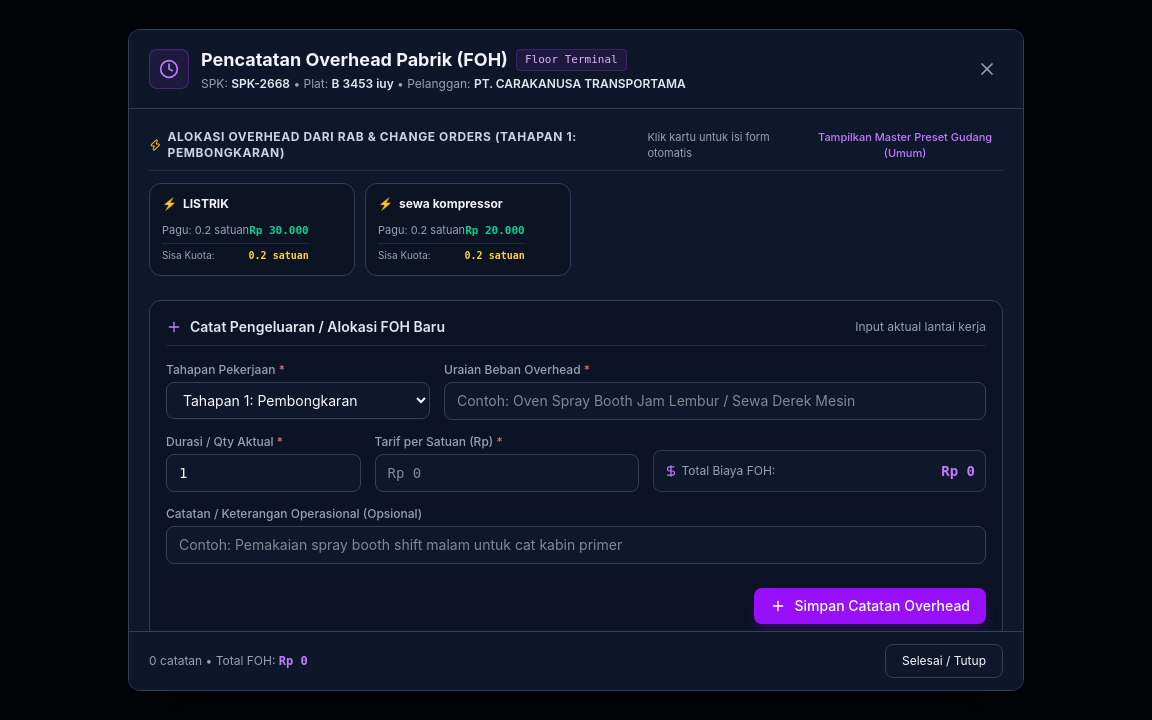
Test: Component: SpkOverheadModal (Mandor Floor Terminal Overhead Logging) › applies dynamic RAB preset when clicked and auto-fills form inputs and binds rab_item_id
The image size is (1152, 720).
# Click LISTRIK preset
Click the text "LISTRIK": [206, 204] box [183,196,229,212]
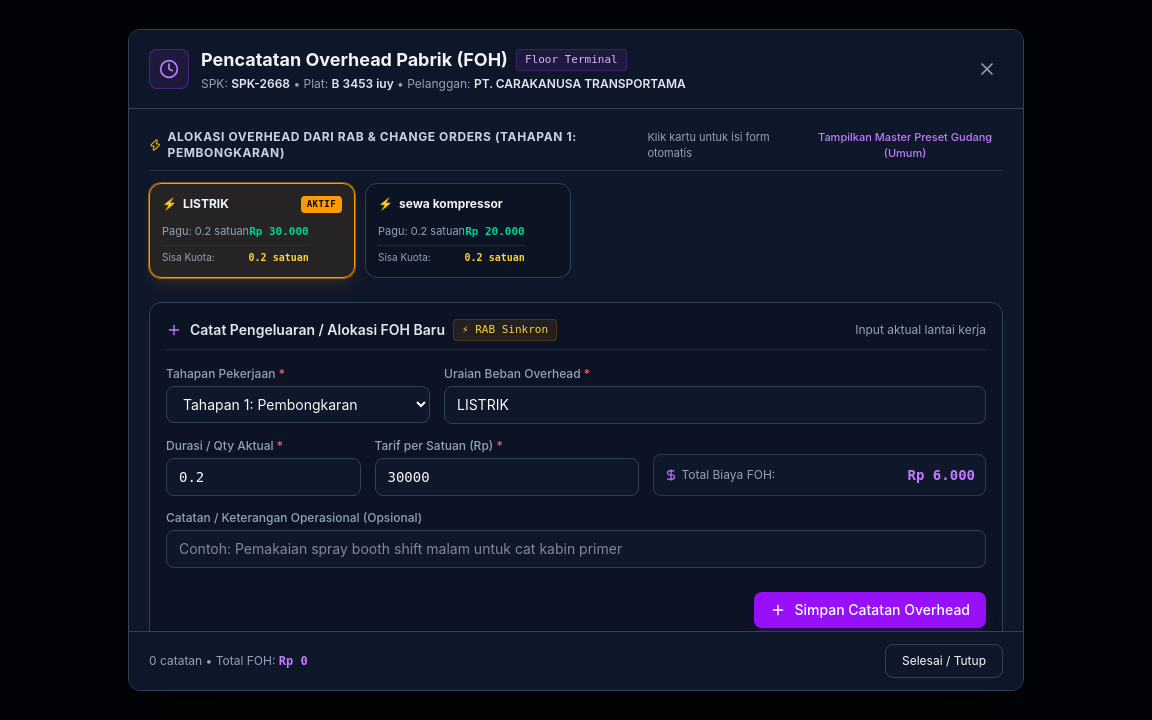
Expected: the field with placeholder "Contoh: Oven Spray Booth Jam Lembur / Sewa Derek Mesin" holds "LISTRIK", [444,386,986,424]
Expected: the number field with placeholder "Rp 0" below "Tarif per Satuan (Rp)" holds "30000", [374,458,638,496]
Expected: the number field with placeholder "1" below "Durasi / Qty Aktual" holds "0.2", [166,458,360,496]
